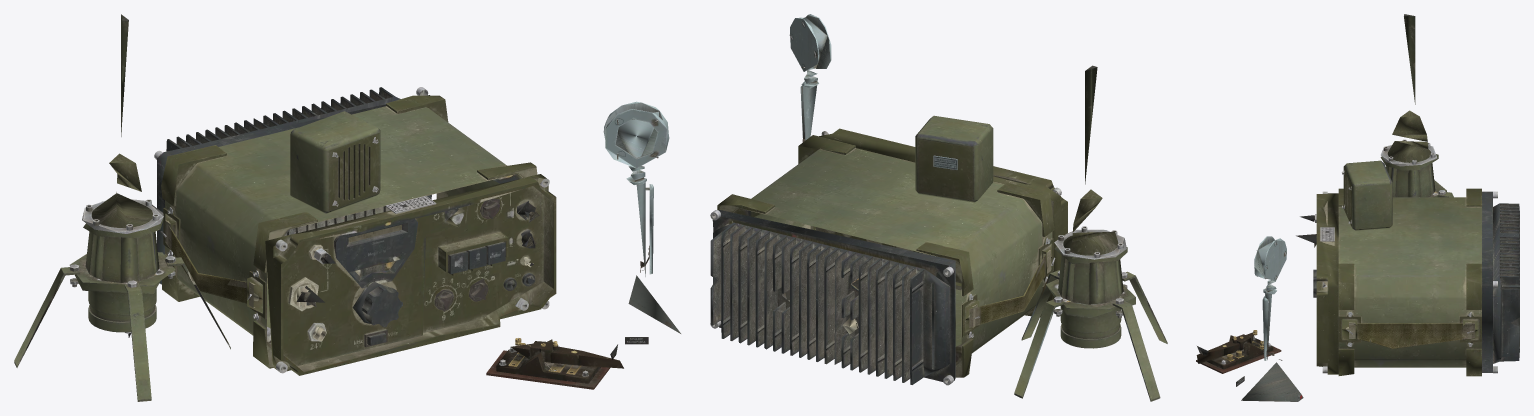
Rendered from vintage_radio_transceiver.glb.
3 renders of one model, left to right at view 1: azimuth 30°, elevation 25°; view 2: azimuth 150°, elevation 25°; view 3: azimuth 270°, elevation 25°, orthographic. The views are drawn at different scales.
Parts seen in each view (by area): view 1: vintage_radio_transceiver, vintage_radio_transceiver_cable; view 2: vintage_radio_transceiver, vintage_radio_transceiver_cable; view 3: vintage_radio_transceiver, vintage_radio_transceiver_cable.
Boxes of the visible parts, left/top/right/bottom form: vintage_radio_transceiver: left=154, top=87, right=556, bottom=375; vintage_radio_transceiver_cable: left=14, top=14, right=680, bottom=401; vintage_radio_transceiver: left=710, top=128, right=1067, bottom=385; vintage_radio_transceiver_cable: left=789, top=14, right=1167, bottom=401; vintage_radio_transceiver: left=1313, top=188, right=1519, bottom=376; vintage_radio_transceiver_cable: left=1196, top=14, right=1453, bottom=401.
Bounding box in the file's own units: 0.5475 × 0.3317 × 0.4102.
2 materials, 2 textured.
